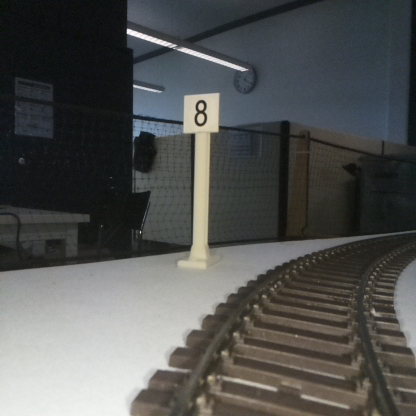white-info-8: (184, 92, 219, 267)
